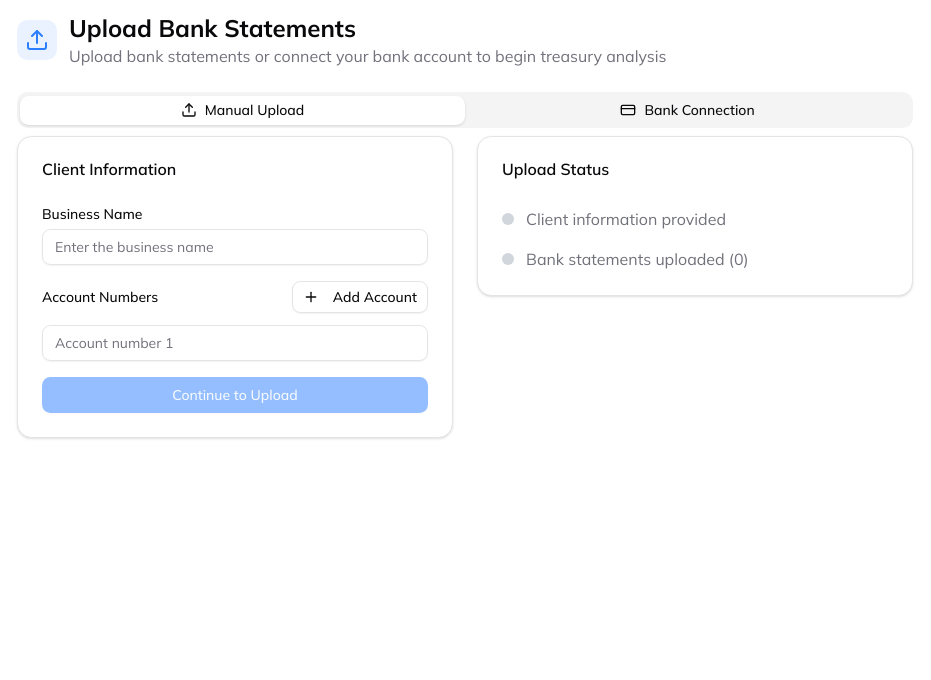
Test: UploadPage › switches to bank connection tab
The image size is (931, 680).
Click the tab "Bank Connection" at (688, 110), box [465,96,910,124]
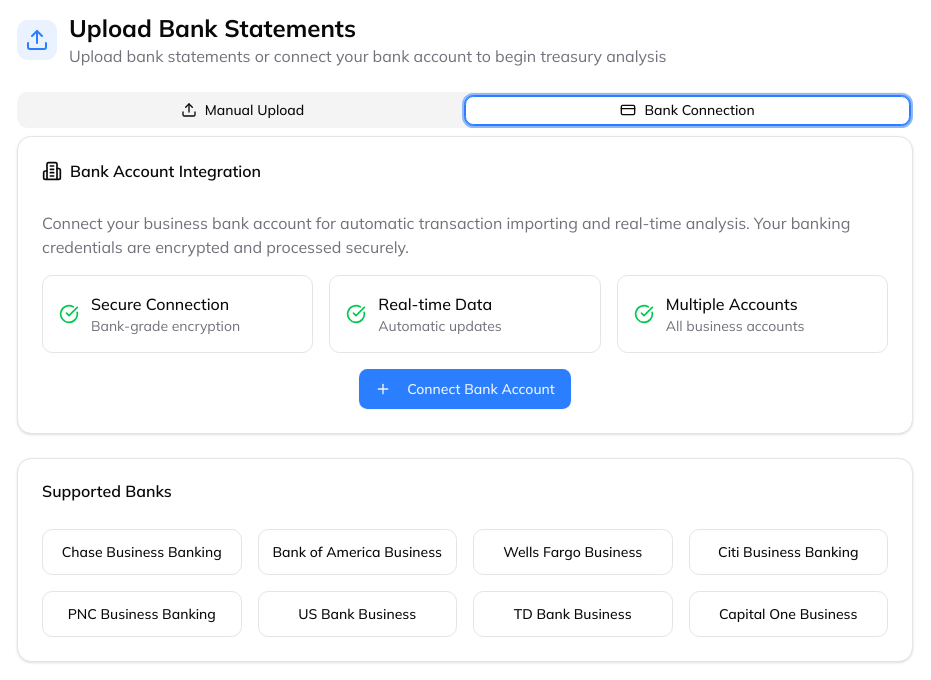
Check: the text "Bank Account Integration" is shown, box [42,161,261,181]
Check: the text "Supported Banks" is shown, box [42,481,172,501]
